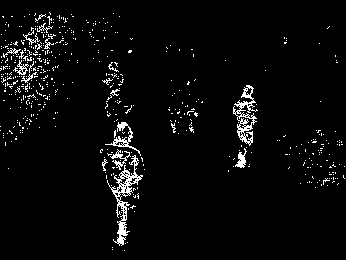person: (101, 121, 143, 246), (233, 83, 258, 169), (104, 61, 123, 118)
